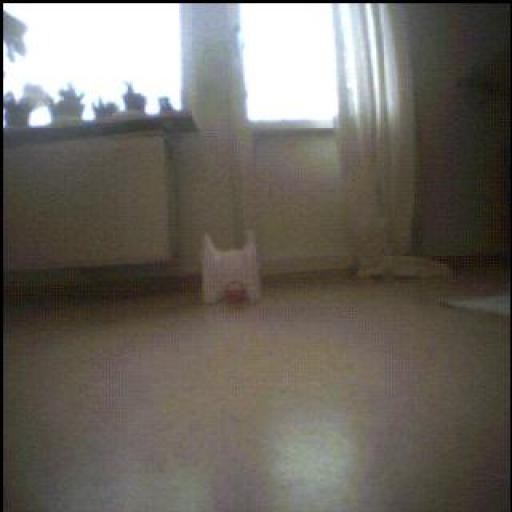Basket: (225, 283, 247, 305)
